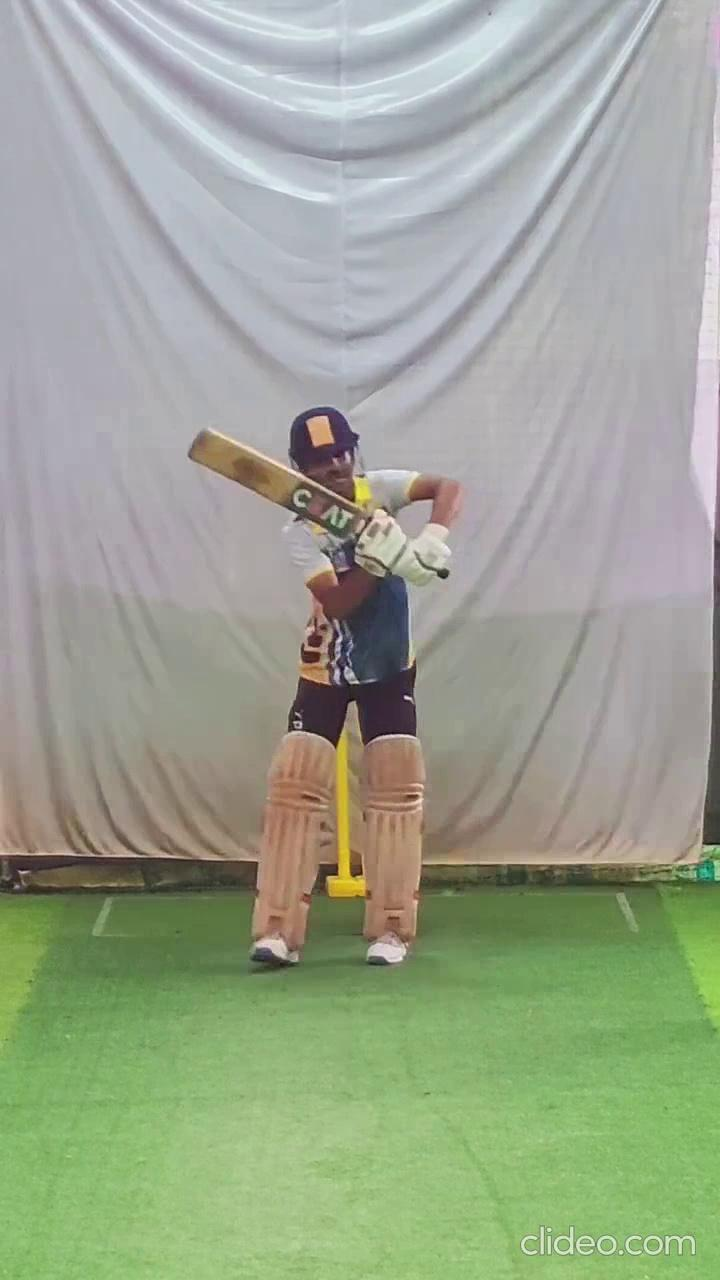bat: (184, 421, 368, 547)
